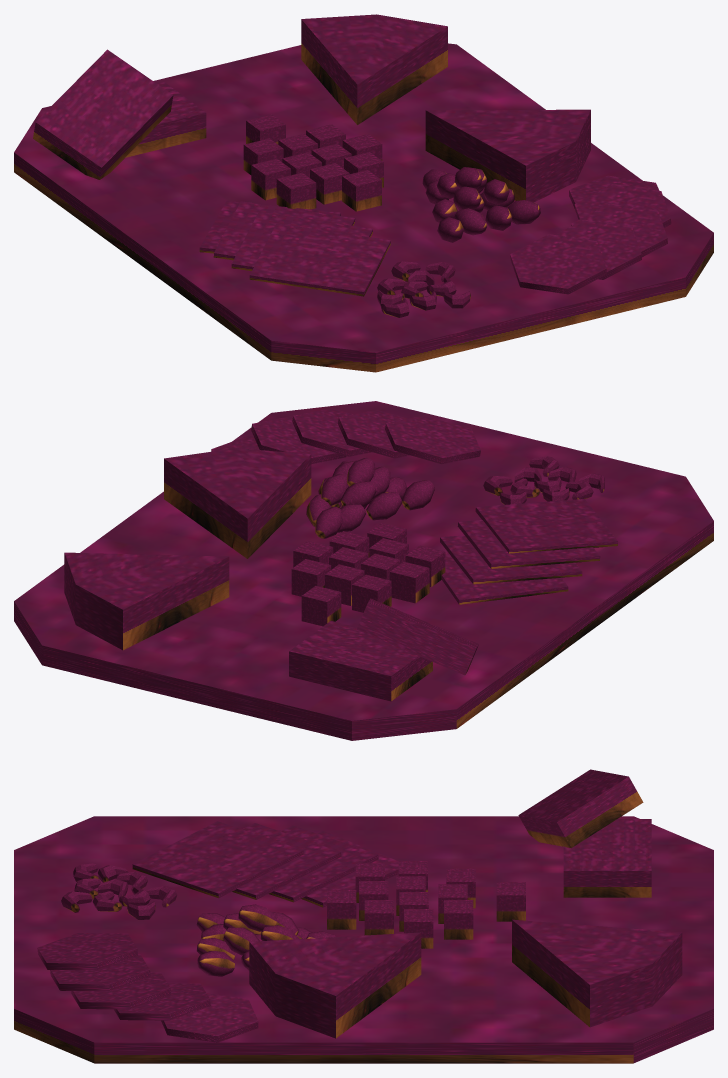
File: cheesePlatter.fbx
3 views of the same model, one above another, from view 1: azimuth 30°, elevation 25°; view 2: azimuth 150°, elevation 25°; view 3: azimuth 270°, elevation 25° (orthographic). The views are drawn at different scales.
Parts seen in each view (by area): view 1: cheesePlatter; view 2: cheesePlatter; view 3: cheesePlatter.
Part boxes in pixels (box(x1,y1,x2,y2)): cheesePlatter: box(14, 14, 713, 372); cheesePlatter: box(14, 401, 713, 740); cheesePlatter: box(14, 769, 713, 1063).
Bounding box in the file's own units: 37.23 × 8.2 × 48.54.
9 materials, 9 textured.
